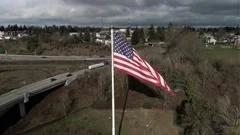America flag: (111, 31, 177, 97)
